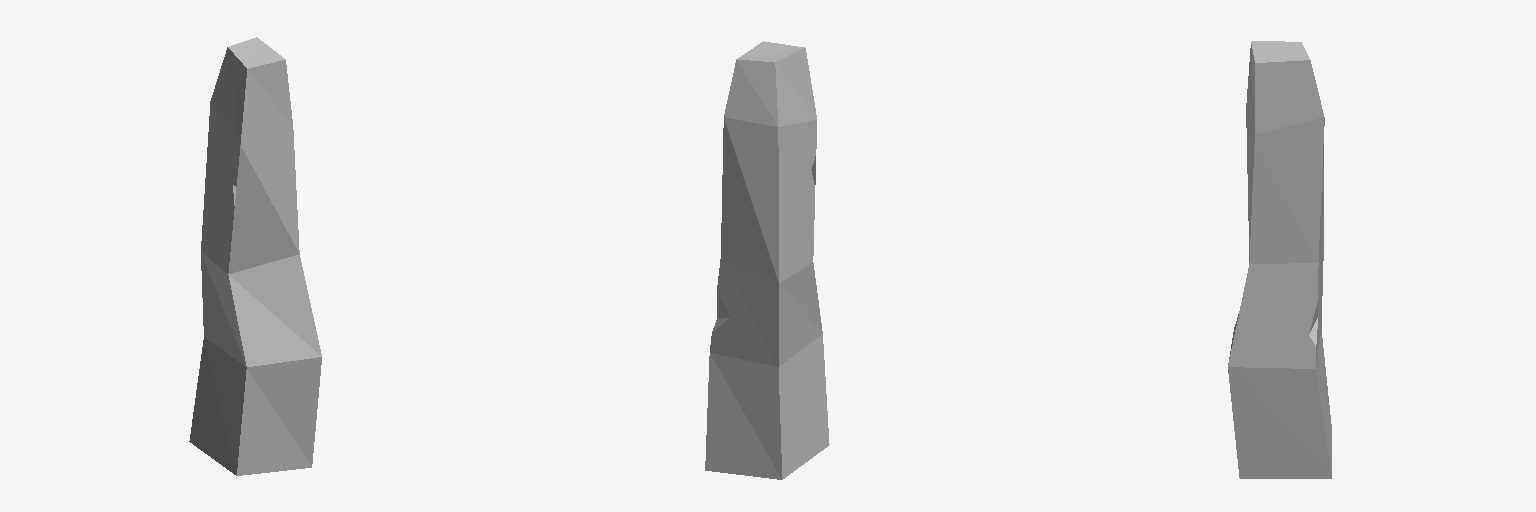
The model's file is Post4.obj.
The picture shows the model from 3 angles: view 1: azimuth 30°, elevation 25°; view 2: azimuth 150°, elevation 25°; view 3: azimuth 270°, elevation 25°; orthographic projection.
Parts seen in each view (by area): view 1: Bridge_Large_Support_1.001_Cube.006; view 2: Bridge_Large_Support_1.001_Cube.006; view 3: Bridge_Large_Support_1.001_Cube.006.
Part boxes in pixels (x1,y1,x2,y2): Bridge_Large_Support_1.001_Cube.006: (189, 37, 321, 475); Bridge_Large_Support_1.001_Cube.006: (705, 41, 829, 479); Bridge_Large_Support_1.001_Cube.006: (1228, 41, 1331, 478).
Bounding box in the file's own units: 0.9257 × 4.49 × 1.03.